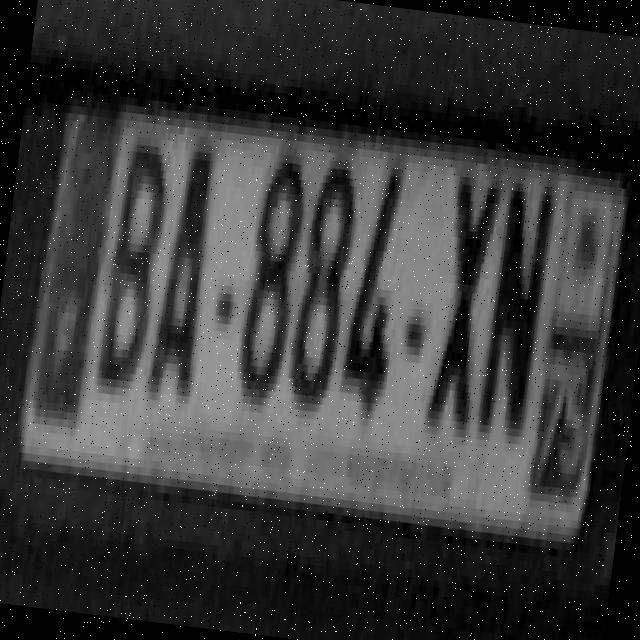EU: (22, 101, 628, 546)
France: (32, 111, 114, 438)
